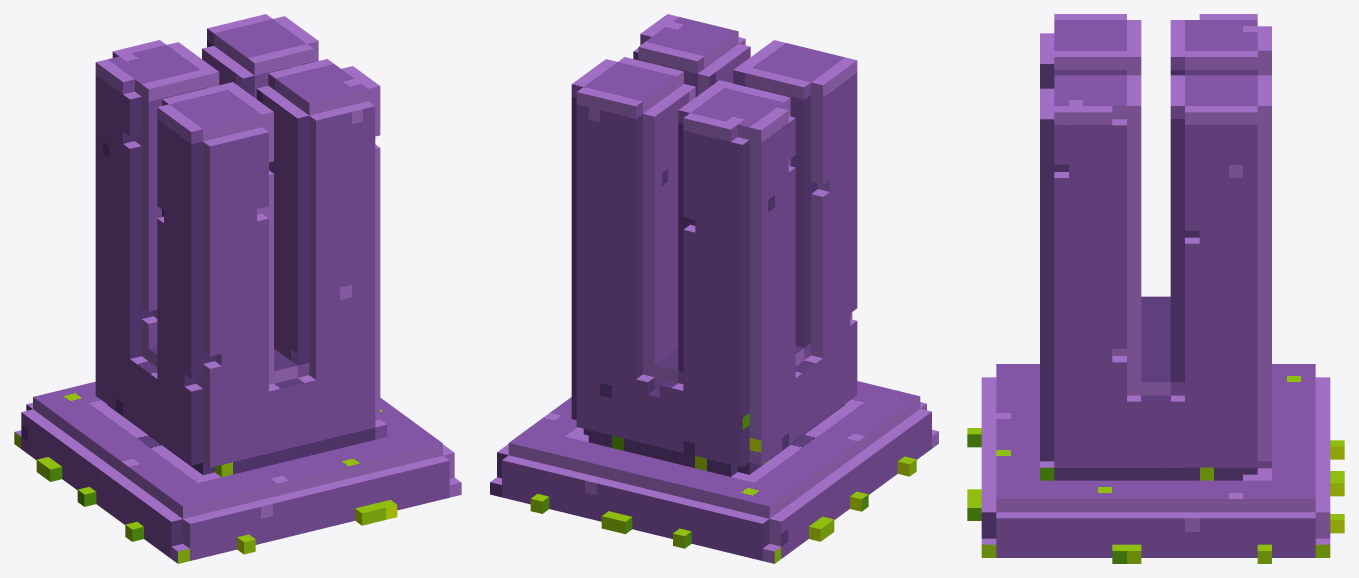
The model's file is forkao.fezao.glb.
3 views of the same model, side by side, from view 1: azimuth 30°, elevation 25°; view 2: azimuth 150°, elevation 25°; view 3: azimuth 270°, elevation 25° (orthographic). The views are drawn at different scales.
Visible parts, largest first — view 1: FORKAO; view 2: FORKAO; view 3: FORKAO.
Part boxes in pixels (x1,y1,x2,y2): FORKAO: [14, 14, 461, 563]; FORKAO: [490, 14, 938, 563]; FORKAO: [967, 14, 1344, 563].
Bounding box in the file's own units: 1.62 × 2 × 1.62.
Materials: 1 (1 with a texture image).
